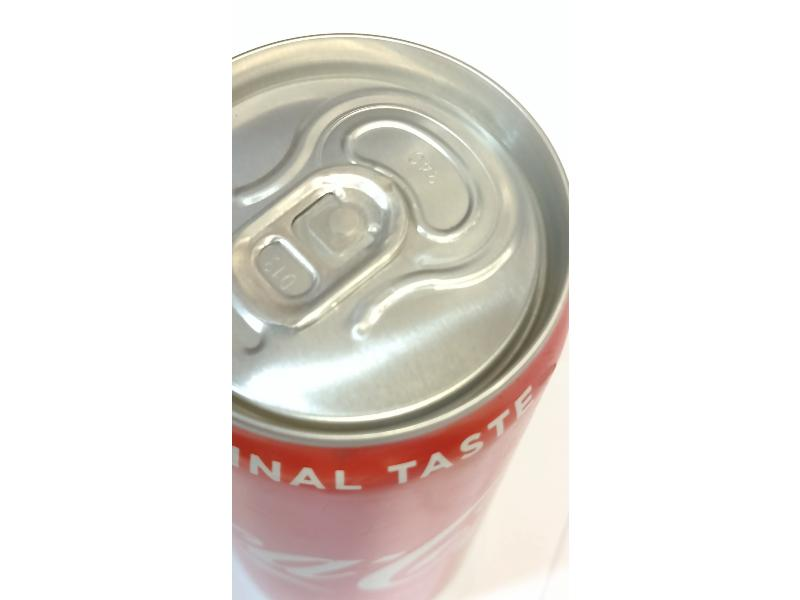can: (232, 24, 570, 596)
